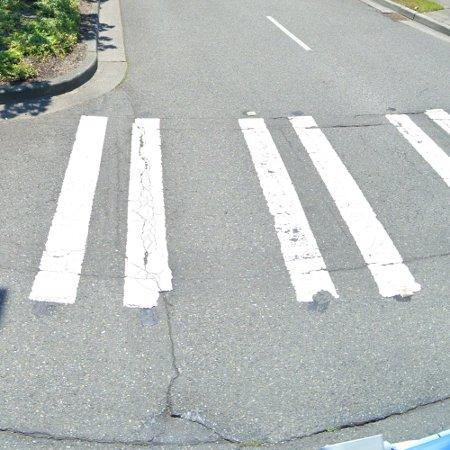crosswalks: (26, 110, 450, 303)
